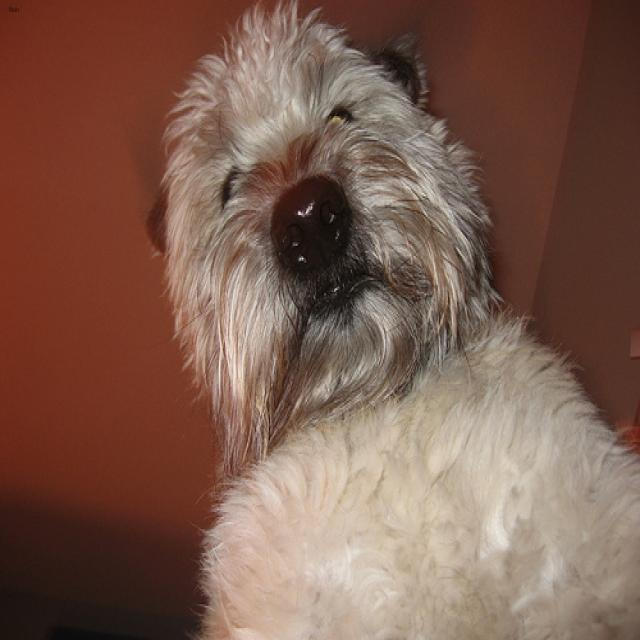dog-wheaten_terrier: (138, 2, 637, 637)
